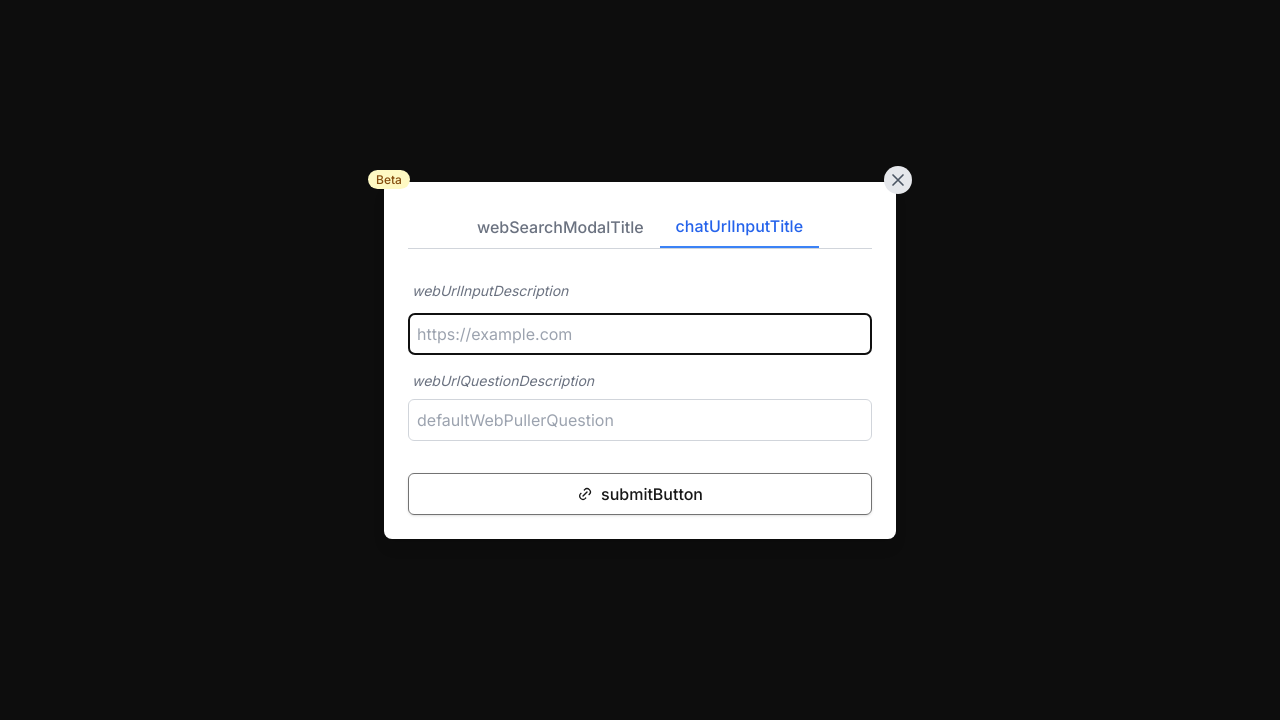
Test: ChatInputSearch Component › URL Mode › should display error message on failed URL fetch (network error)
The width and height of the screenshot is (1280, 720).
Type "http://invalid-url.com" into the field with placeholder "https://example.com" at coordinates (640, 334), box [408,312,872,354]
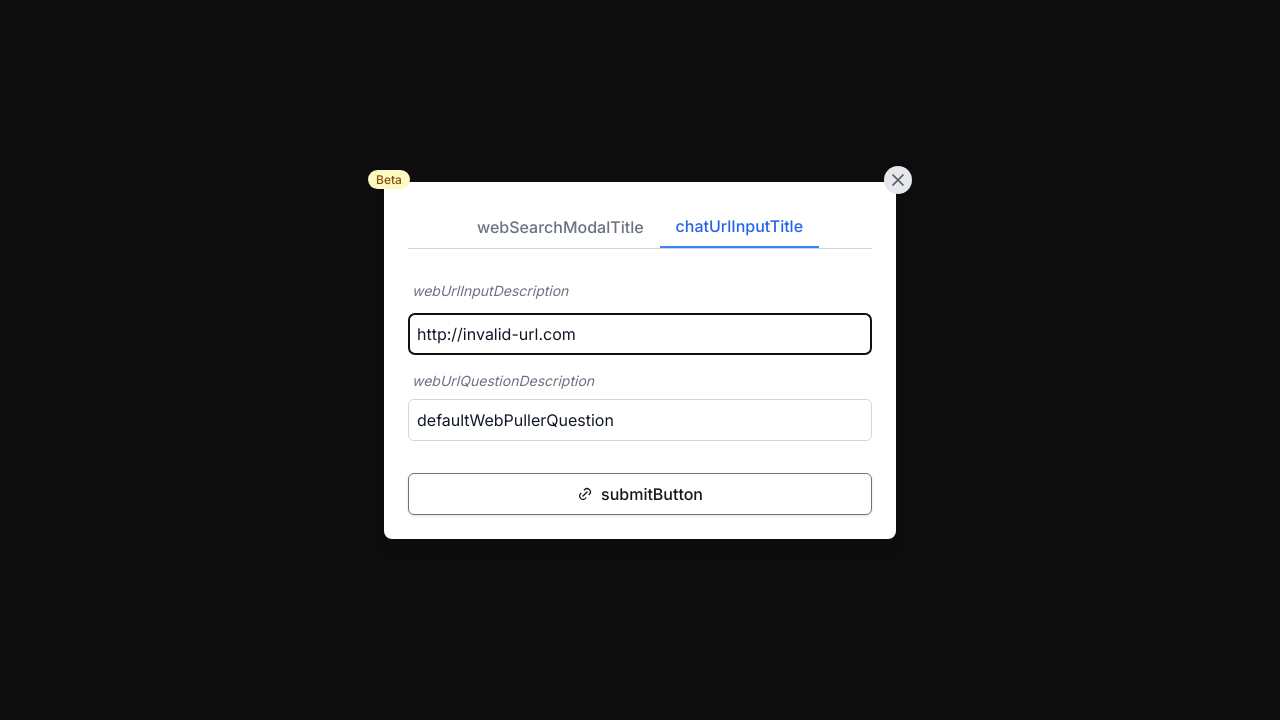
Click the button "submitButton" at coordinates (640, 494), box [408,472,872,514]
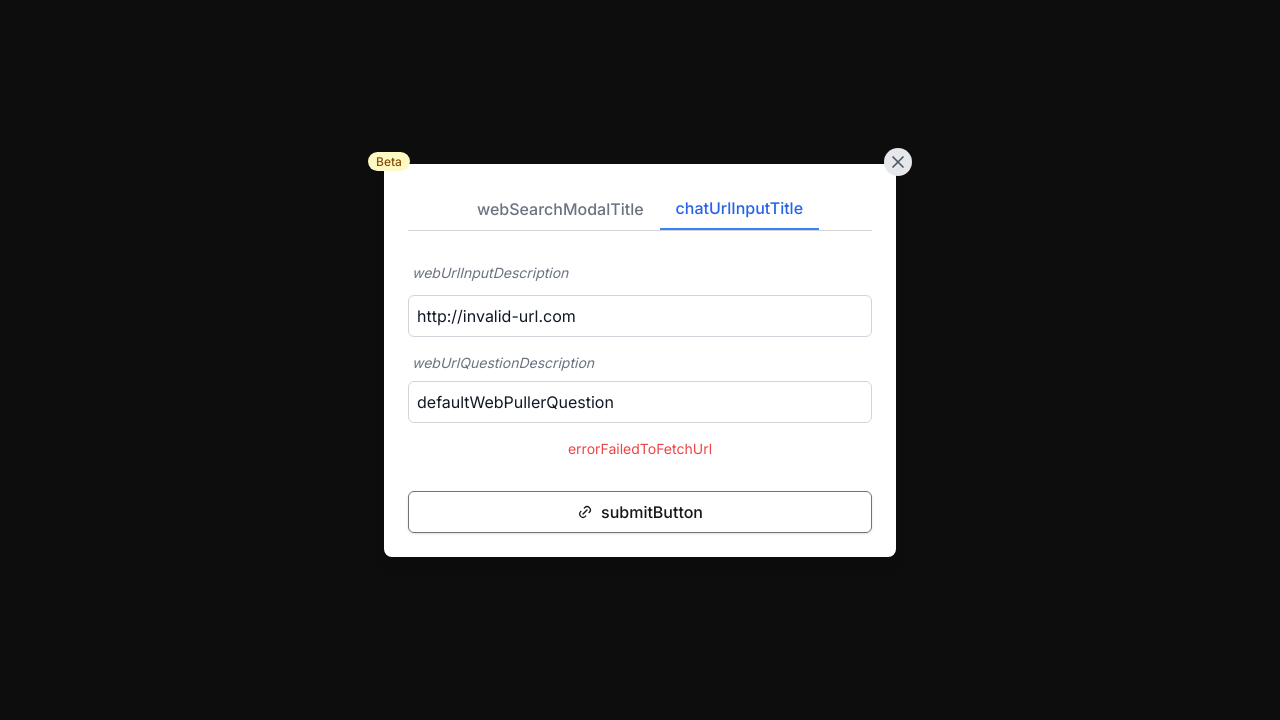
Expected: the text "errorFailedToFetchUrl" is shown, [568,440,712,456]
